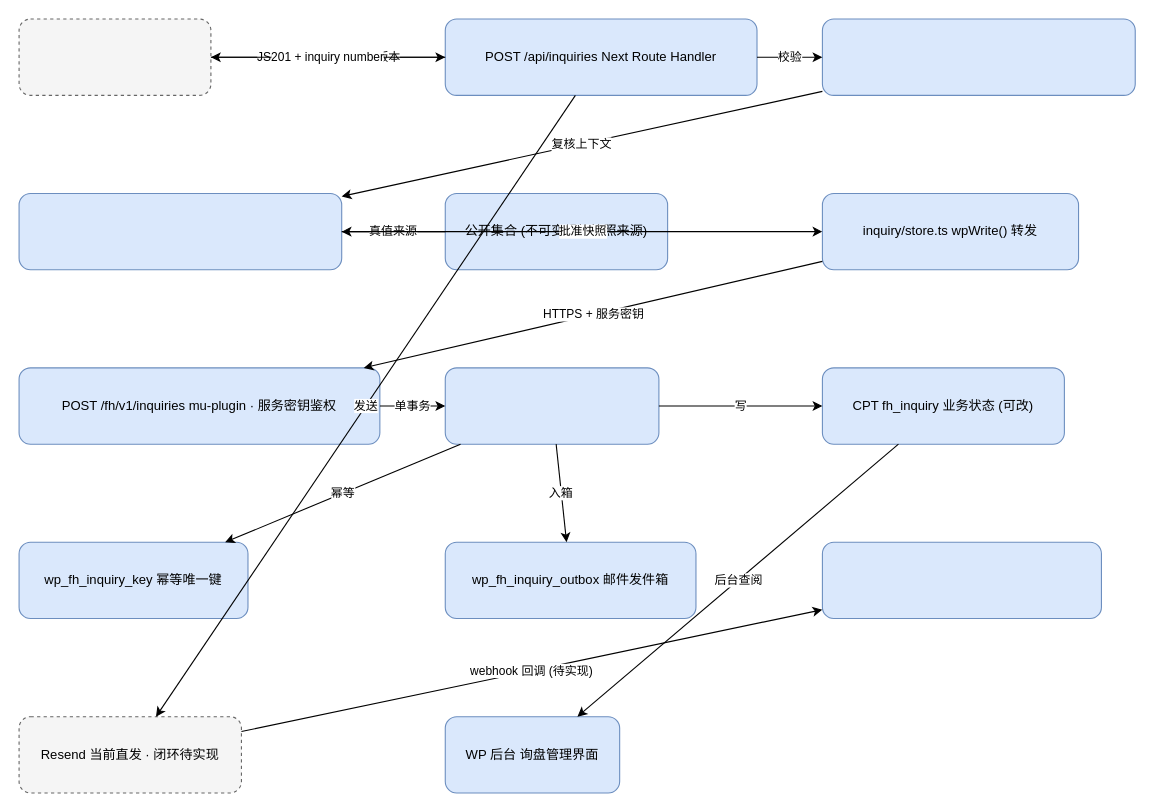
The diagram is 1154 pixels wide and 812 high, and some of its shapes have lost their labels. Here are the shapes that lost their labels. From the top down, the centre of each, then its label:
At point (114, 56): "浏览器 InquiryForm 提交".
At point (978, 56): "validate.ts 字段/枚举/长度/honeypot/限流".
At point (180, 231): "inquiry-binding.ts 服务端复核型号+生产代码".
At point (551, 405): "事务写入 CPT + meta + 3 表".
At point (961, 580): "wp_fh_inquiry_event 邮件事件 (只读)".
